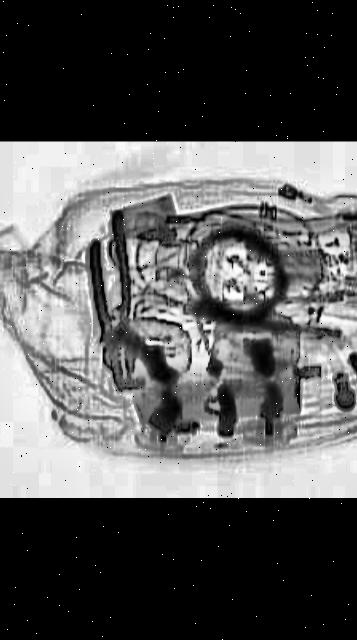Pliers: (80, 208, 139, 391)
